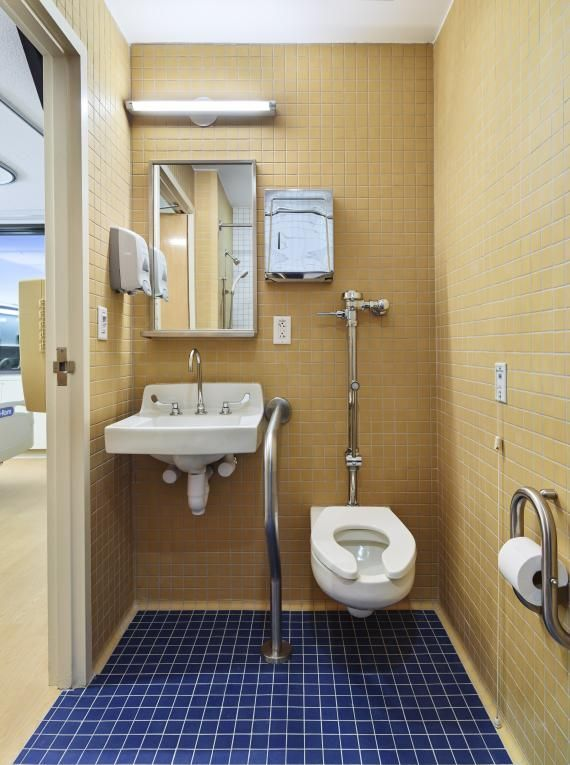dispenser: (501, 478, 570, 647), (261, 188, 335, 286), (108, 225, 154, 299)
faucet: (187, 348, 205, 414)
restroom_assist_bar: (261, 397, 294, 664)
sink: (104, 378, 265, 463)
toilet: (298, 372, 418, 620)
toilet_handle: (315, 309, 348, 320)
